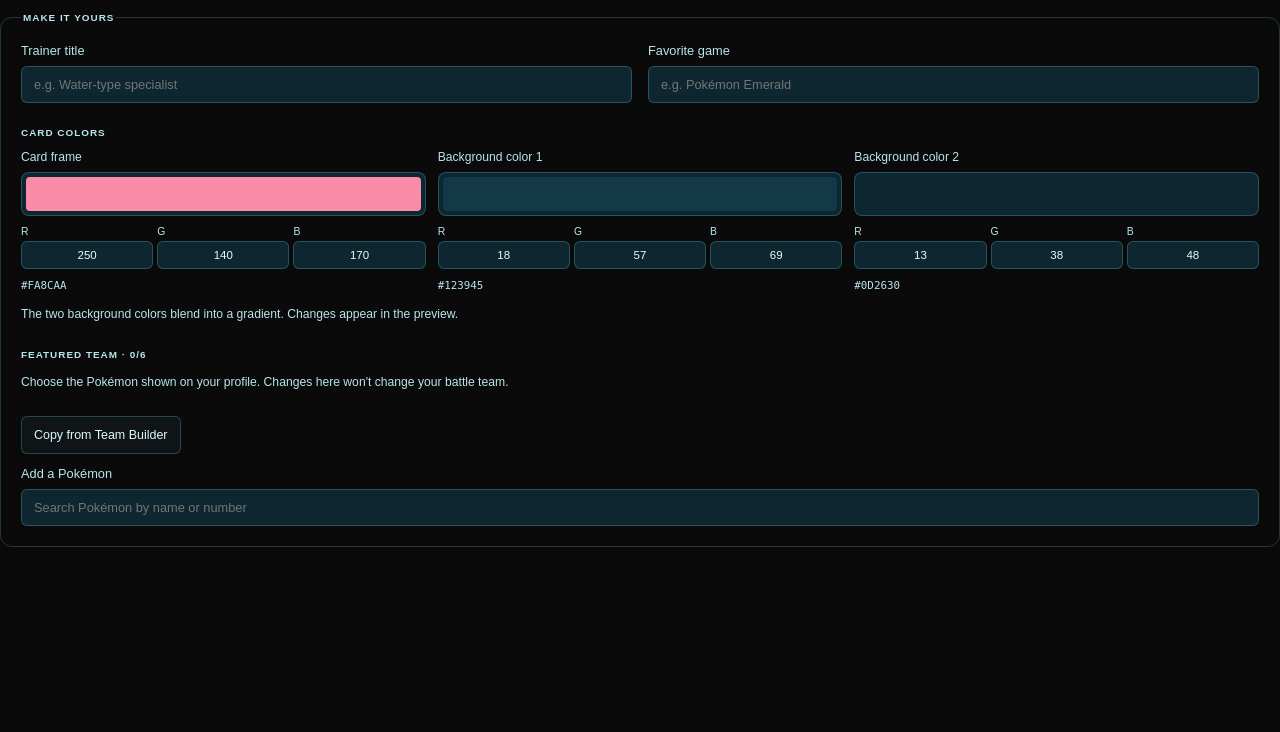
Test: profile customization controls › synchronizes RGB channels with each color picker without changing other colors
Replace the text in the number field named "Card frame R" with "25": (87, 255) [21,241,153,269]
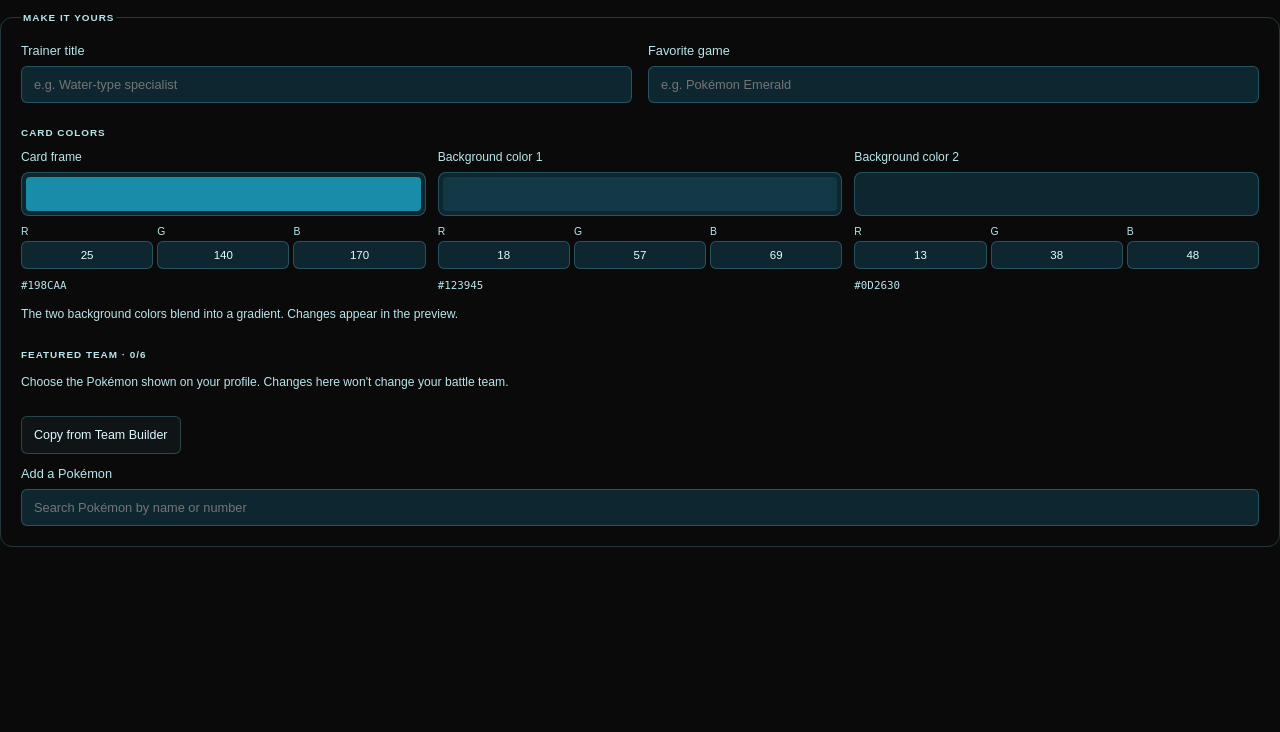
Expected: the colour field labelled "Card frame" holds "#198caa", [21,172,426,216]
In the colour field labelled "Background color 1": (640, 194) [438,172,842,216], type "#abcdef"
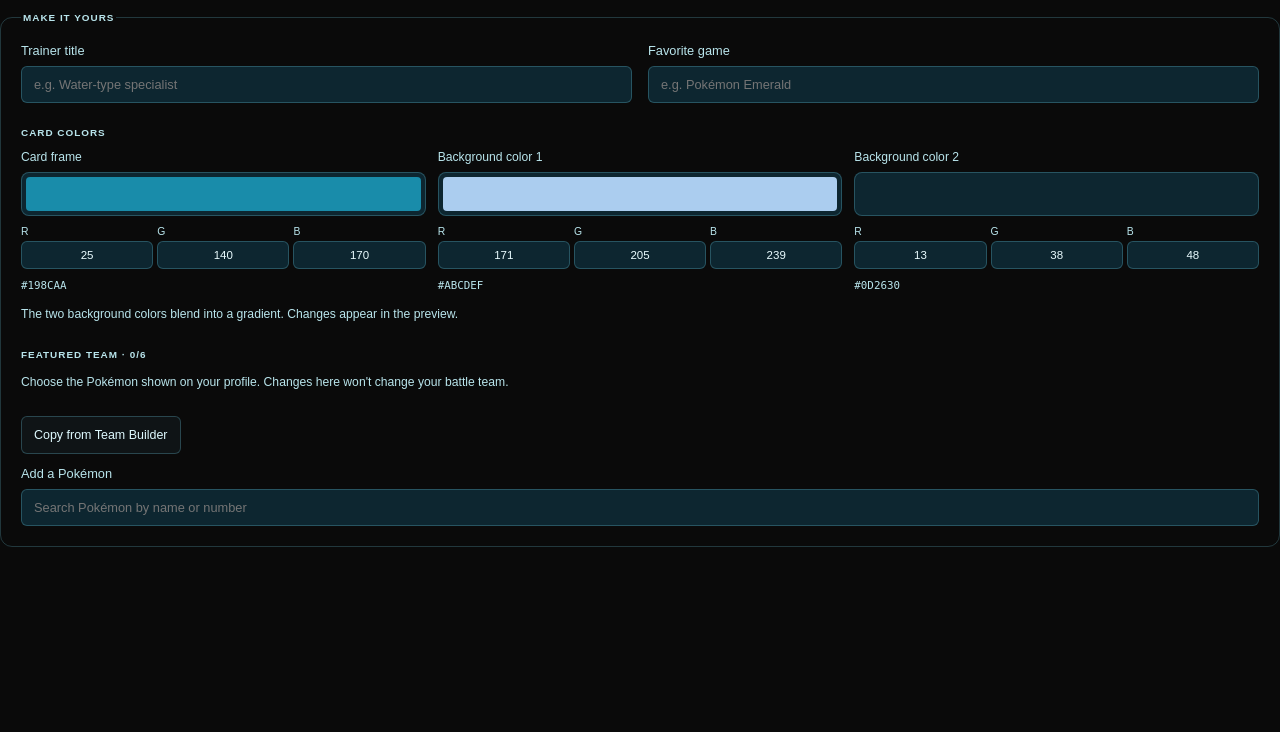
Expected: the colour field labelled "Background color 2" holds "#0d2630", [854,172,1259,216]
Expected: the number field named "Background color 1 G" holds "205", [574,241,706,269]
